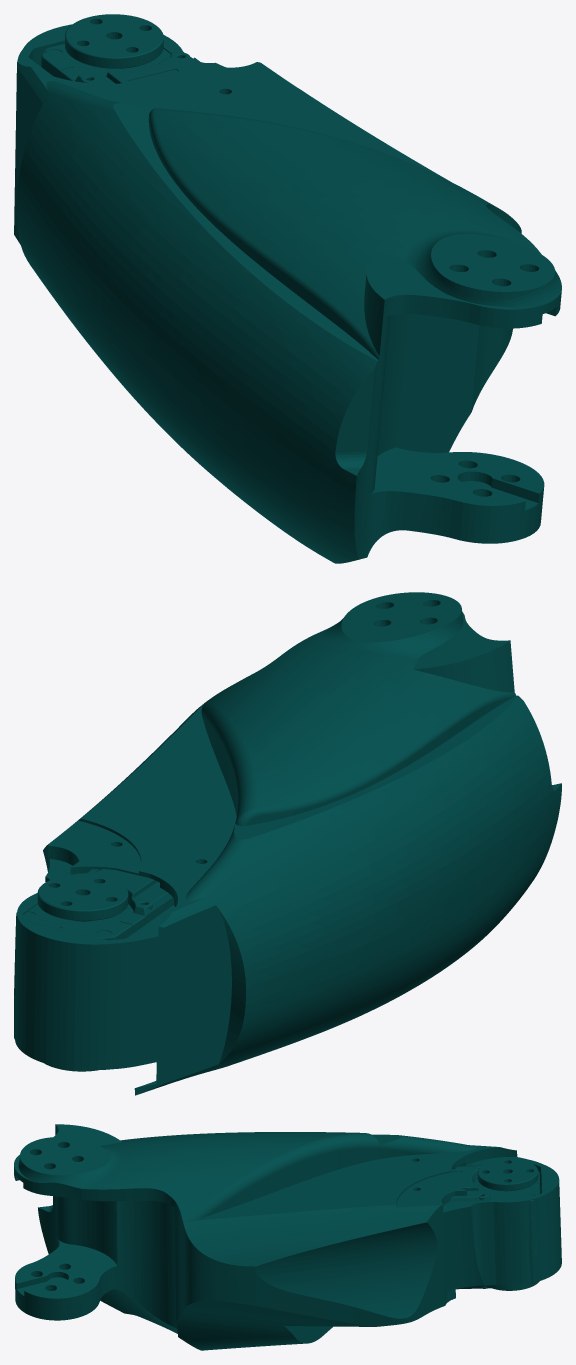
The model's file is leg_right_hip_pitch_visuals.obj.
3 renders of one model, top to bottom at view 1: azimuth 30°, elevation 25°; view 2: azimuth 150°, elevation 25°; view 3: azimuth 270°, elevation 25°, orthographic. The views are drawn at different scales.
Bounding box in the file's own units: 0.0739 × 0.0689 × 0.173.
